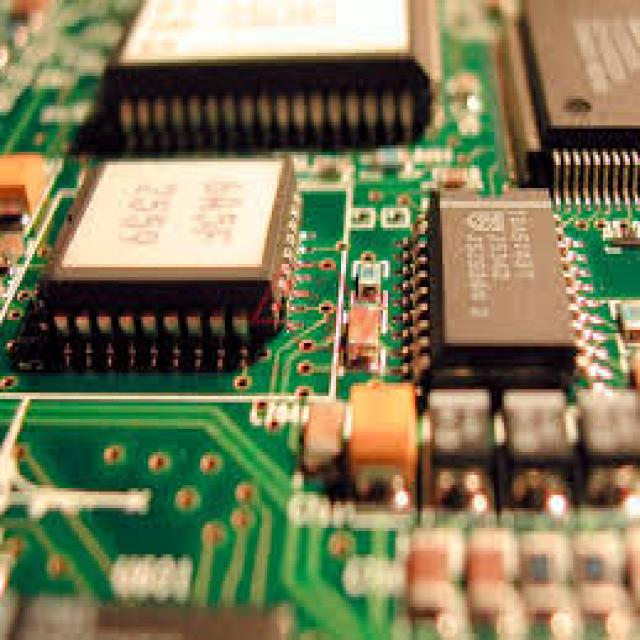IC: (22, 153, 300, 372), (84, 2, 426, 156), (424, 178, 584, 394)
